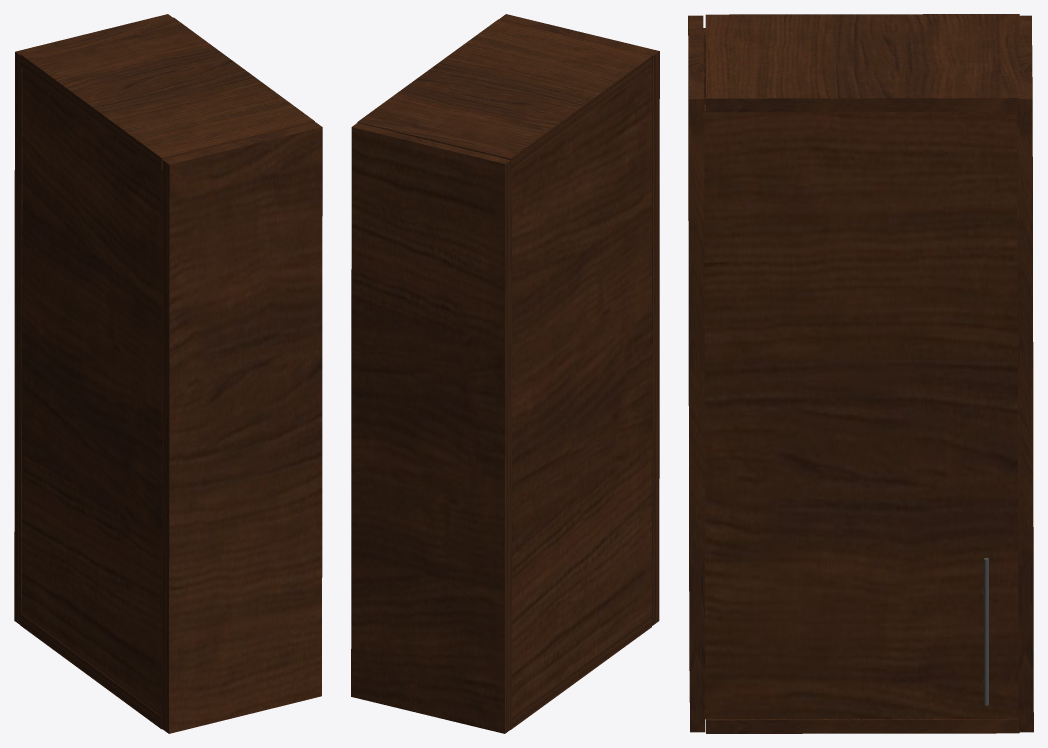
The model's file is armarioCocinaPared1.fbx.
3 renders of one model, left to right at view 1: azimuth 30°, elevation 25°; view 2: azimuth 150°, elevation 25°; view 3: azimuth 270°, elevation 25°, orthographic. The views are drawn at different scales.
Parts seen in each view (by area): view 1: armarioCocina1; view 2: armarioCocina1; view 3: armarioCocina1.
Part boxes in pixels (x1,y1,x2,y2): armarioCocina1: (14, 14, 322, 733); armarioCocina1: (351, 14, 659, 733); armarioCocina1: (688, 14, 1033, 733).
Bounding box in the file's own units: 0.6398 × 2.05 × 1.01.
Materials: 2 (1 with a texture image).
